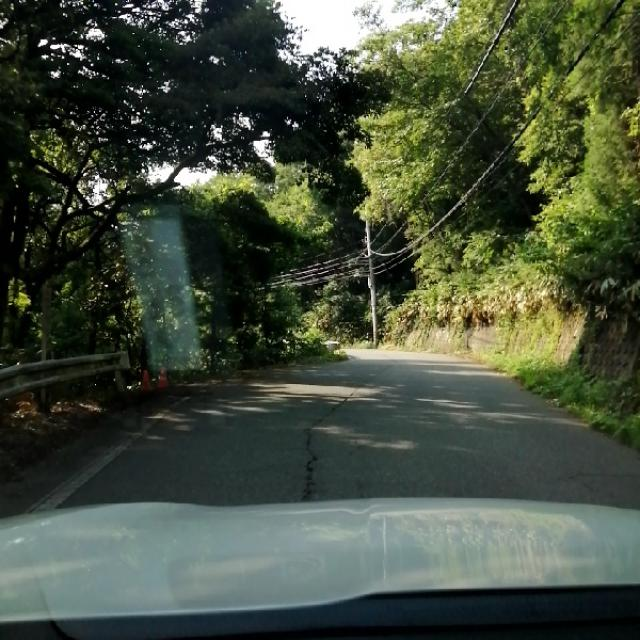pothole: (284, 394, 379, 489)
